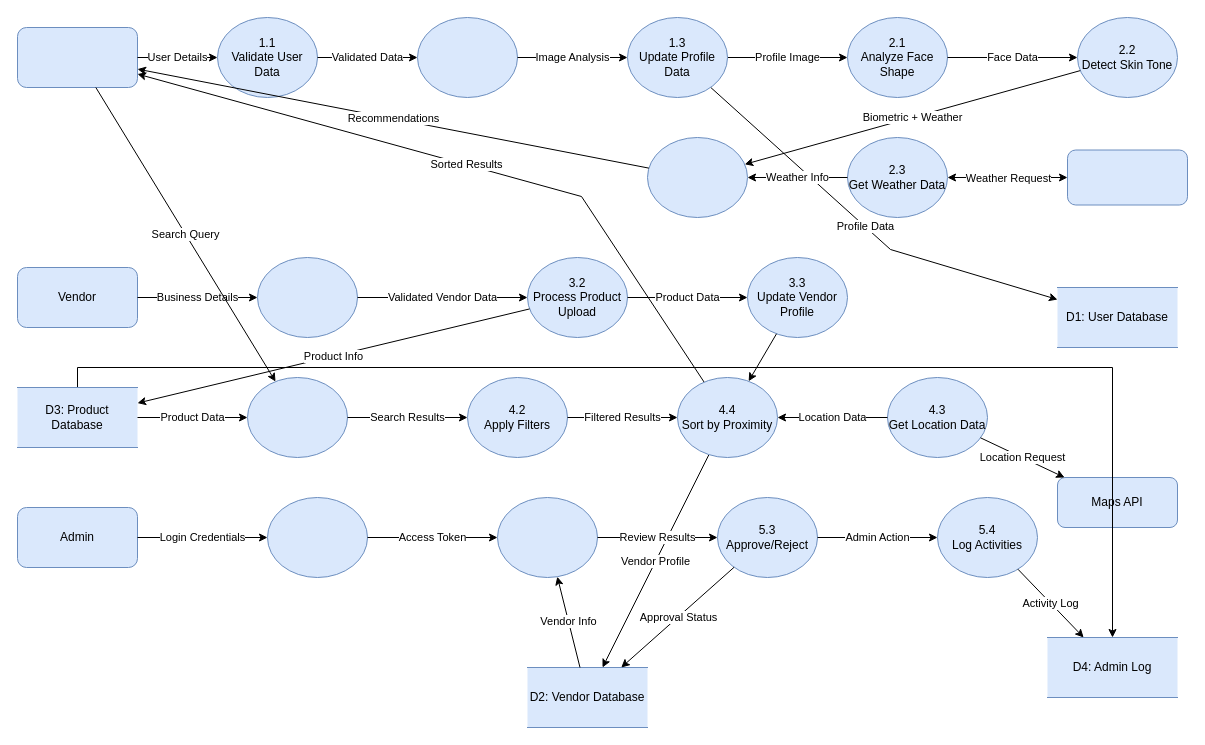
Some shapes in this 1205 by 745 pixel diagram are drawn without their labels. Here are the shapes that lost their labels. From the top down, the centre of each, then its label:
the point at 77,57: User
the point at 467,57: 1.2 Process Profile Image
the point at 697,177: 2.4 Generate Recommendations
the point at 1127,177: Weather API
the point at 307,297: 3.1 Validate Vendor Data
the point at 297,417: 4.1 Process Search Query
the point at 317,537: 5.1 Validate Admin Login
the point at 547,537: 5.2 Review Content
